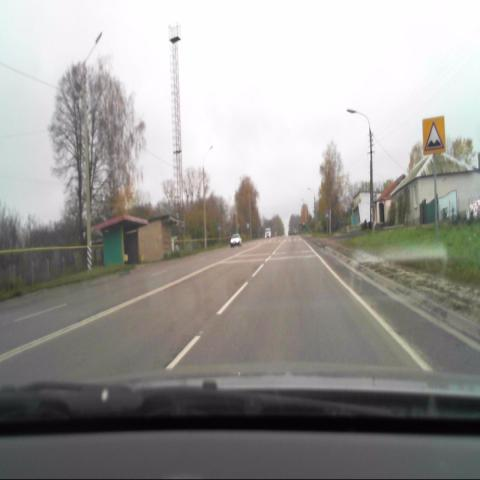1_16: (423, 114, 446, 155)
